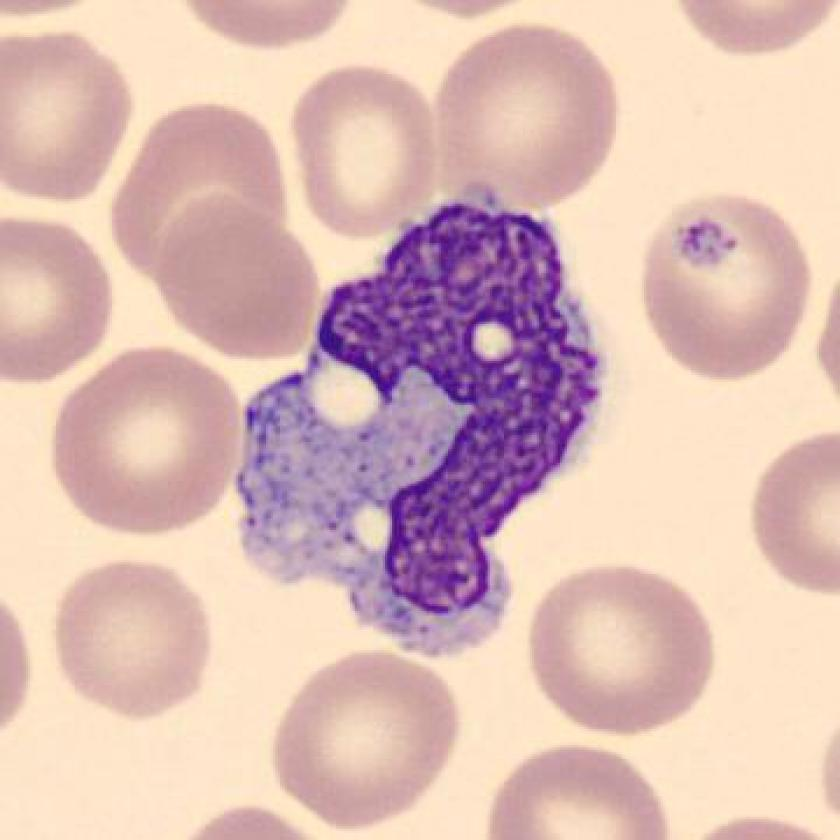monocyte: (220, 166, 629, 668)
